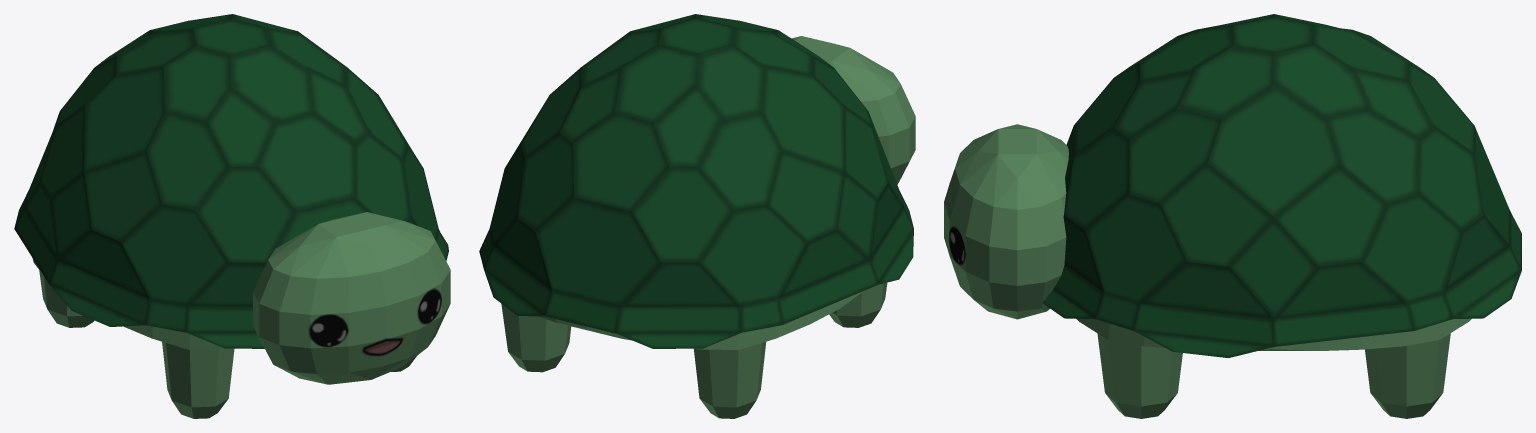
The model's file is vedal987.gltf.
3 views of the same model, side by side, from view 1: azimuth 30°, elevation 25°; view 2: azimuth 150°, elevation 25°; view 3: azimuth 270°, elevation 25° (orthographic). The views are drawn at different scales.
Visible parts, largest first — view 1: Sphere; view 2: Sphere; view 3: Sphere.
Boxes of the visible parts, left/top/right/bottom form: Sphere: left=14, top=14, right=450, bottom=418; Sphere: left=479, top=14, right=915, bottom=418; Sphere: left=944, top=14, right=1521, bottom=418.
Size of the model in its own units: 0.9721 by 0.7761 by 1.25.
Materials: 1 (1 with a texture image).
